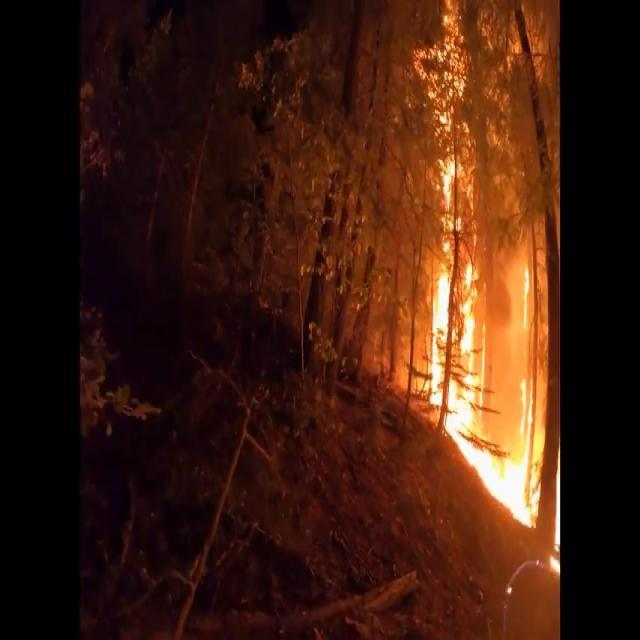Fire: (412, 3, 560, 572)
